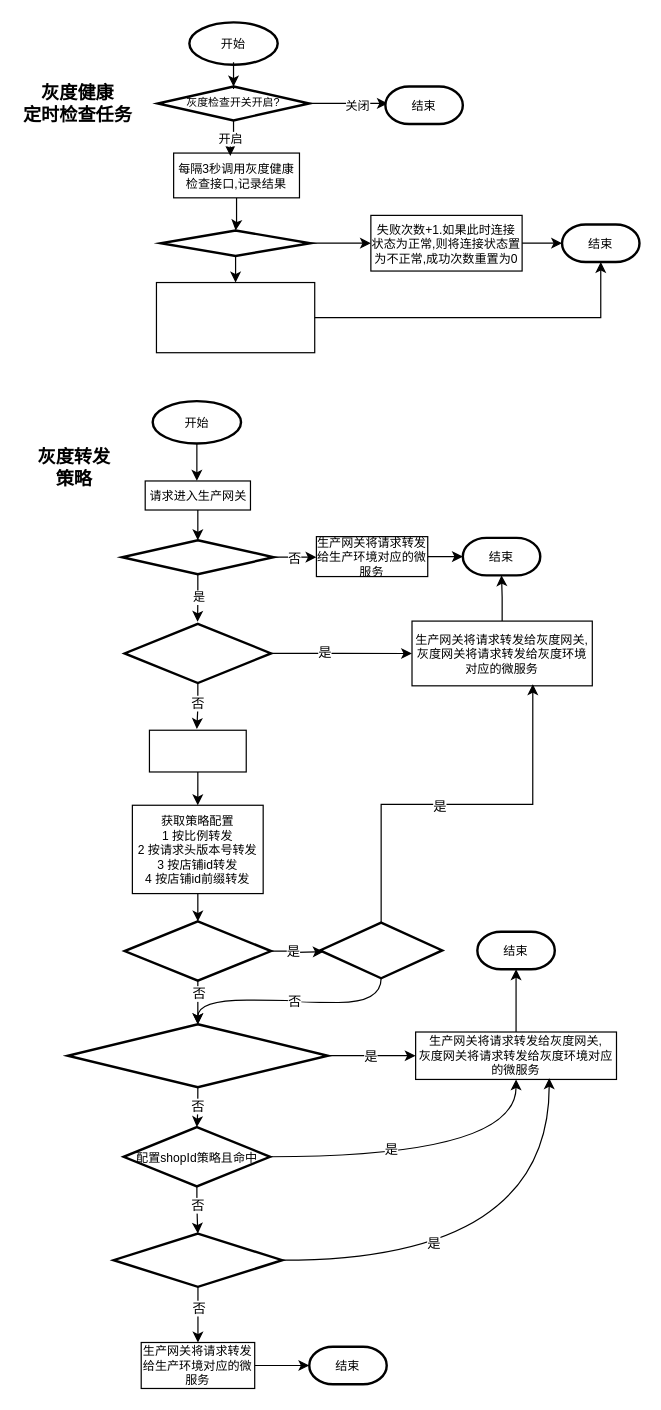
Some shapes in this 661 by 1410 pixel diagram are drawn without their labels. Each missing label, with the centre of its shape:
成功?: the point at 235,243
成功次数+1.如果此时链接状态不正常且成功次数大于3次,则将连接状态置为正常,失败次数重置为0: the point at 235,317
比例命中网关: the point at 380,950
灰度是否连通: the point at 197,556
获取请求头的版本号内容: the point at 197,750
请求url是否带有gray参数: the point at 197,653
配置shopId前缀策略且命中: the point at 197,1259
配置了按比例转发: the point at 197,950
配置版本号策略且命中: the point at 197,1055
